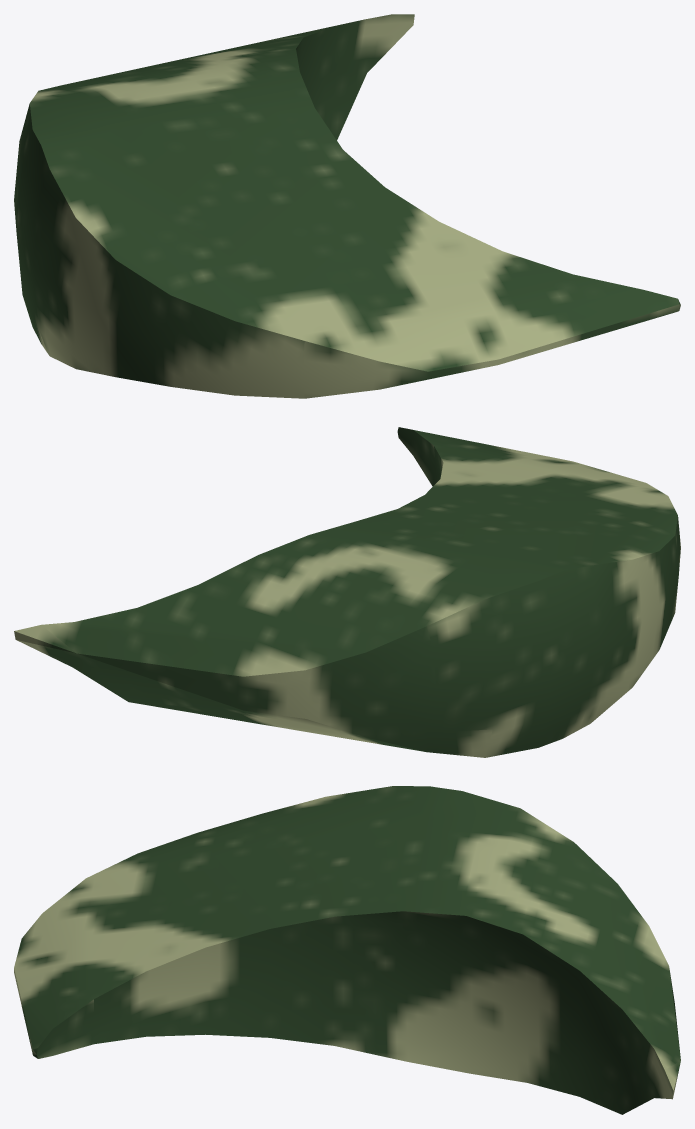
The model's file is link_body_30.obj.
3 views of the same model, one above another, from view 1: azimuth 30°, elevation 25°; view 2: azimuth 150°, elevation 25°; view 3: azimuth 270°, elevation 25° (orthographic). The views are drawn at different scales.
Parts seen in each view (by area): view 1: link_body_30; view 2: link_body_30; view 3: link_body_30.
Boxes of the visible parts, x1,y1,x2,y2 form: link_body_30: (14,14,680,398); link_body_30: (14,427,680,757); link_body_30: (14,786,680,1114).
Bounding box in the file's own units: 7.83 × 2.73 × 9.41.
